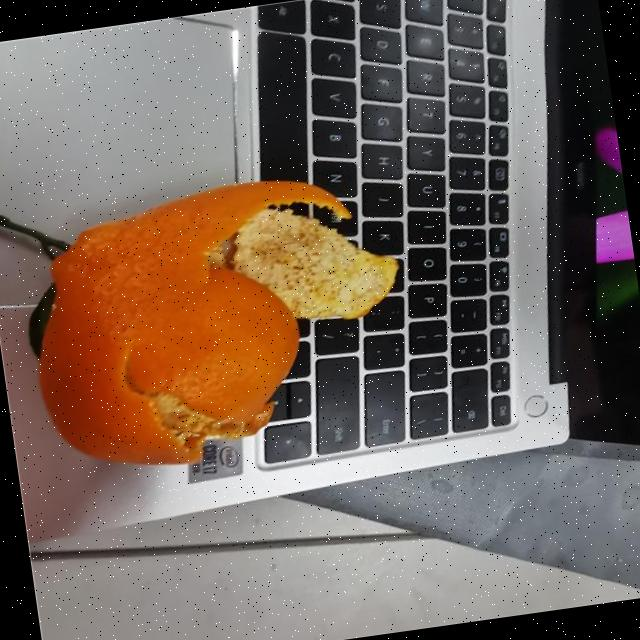orange-peel: (14, 165, 384, 483)
